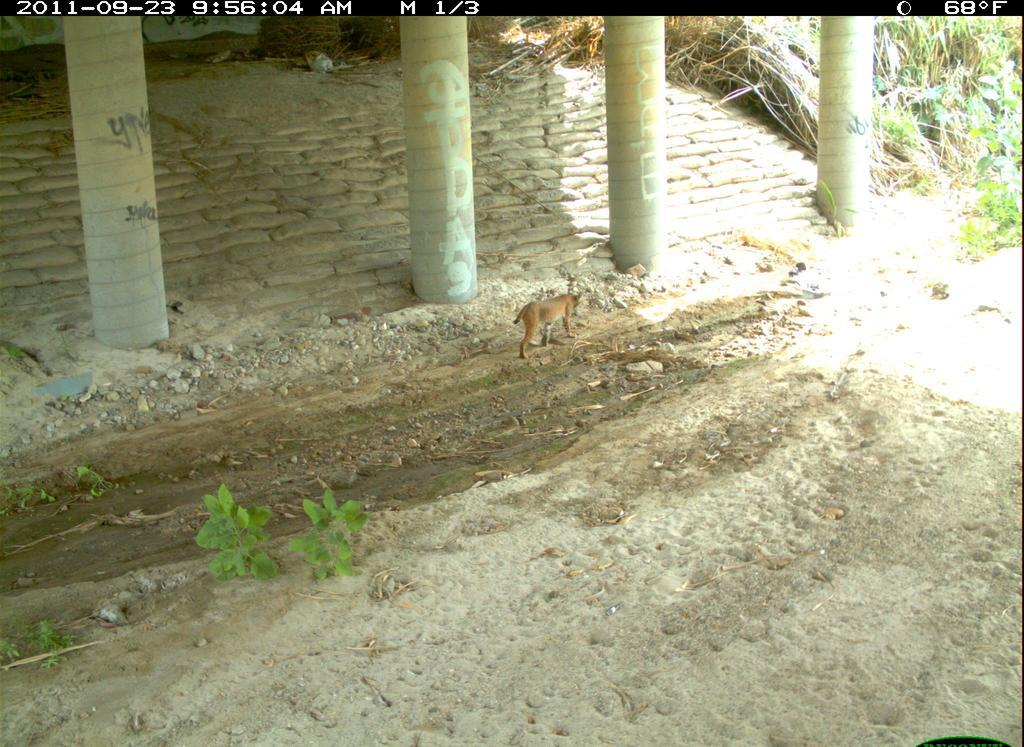bobcat: (1018, 568, 1024, 727)
